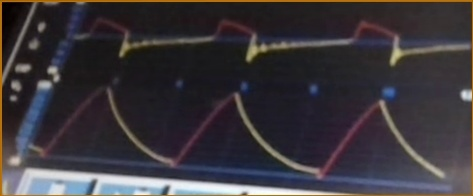Accumulation Flow: (78, 13, 468, 70)
Volume: (29, 86, 445, 182)
